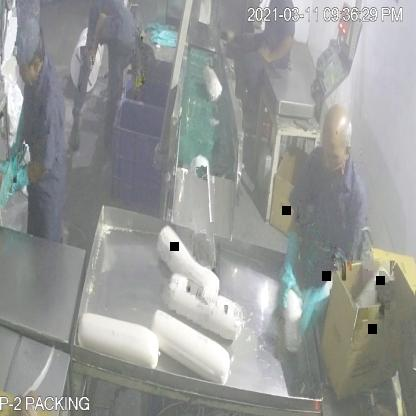no_glove: (259, 26, 295, 74)
